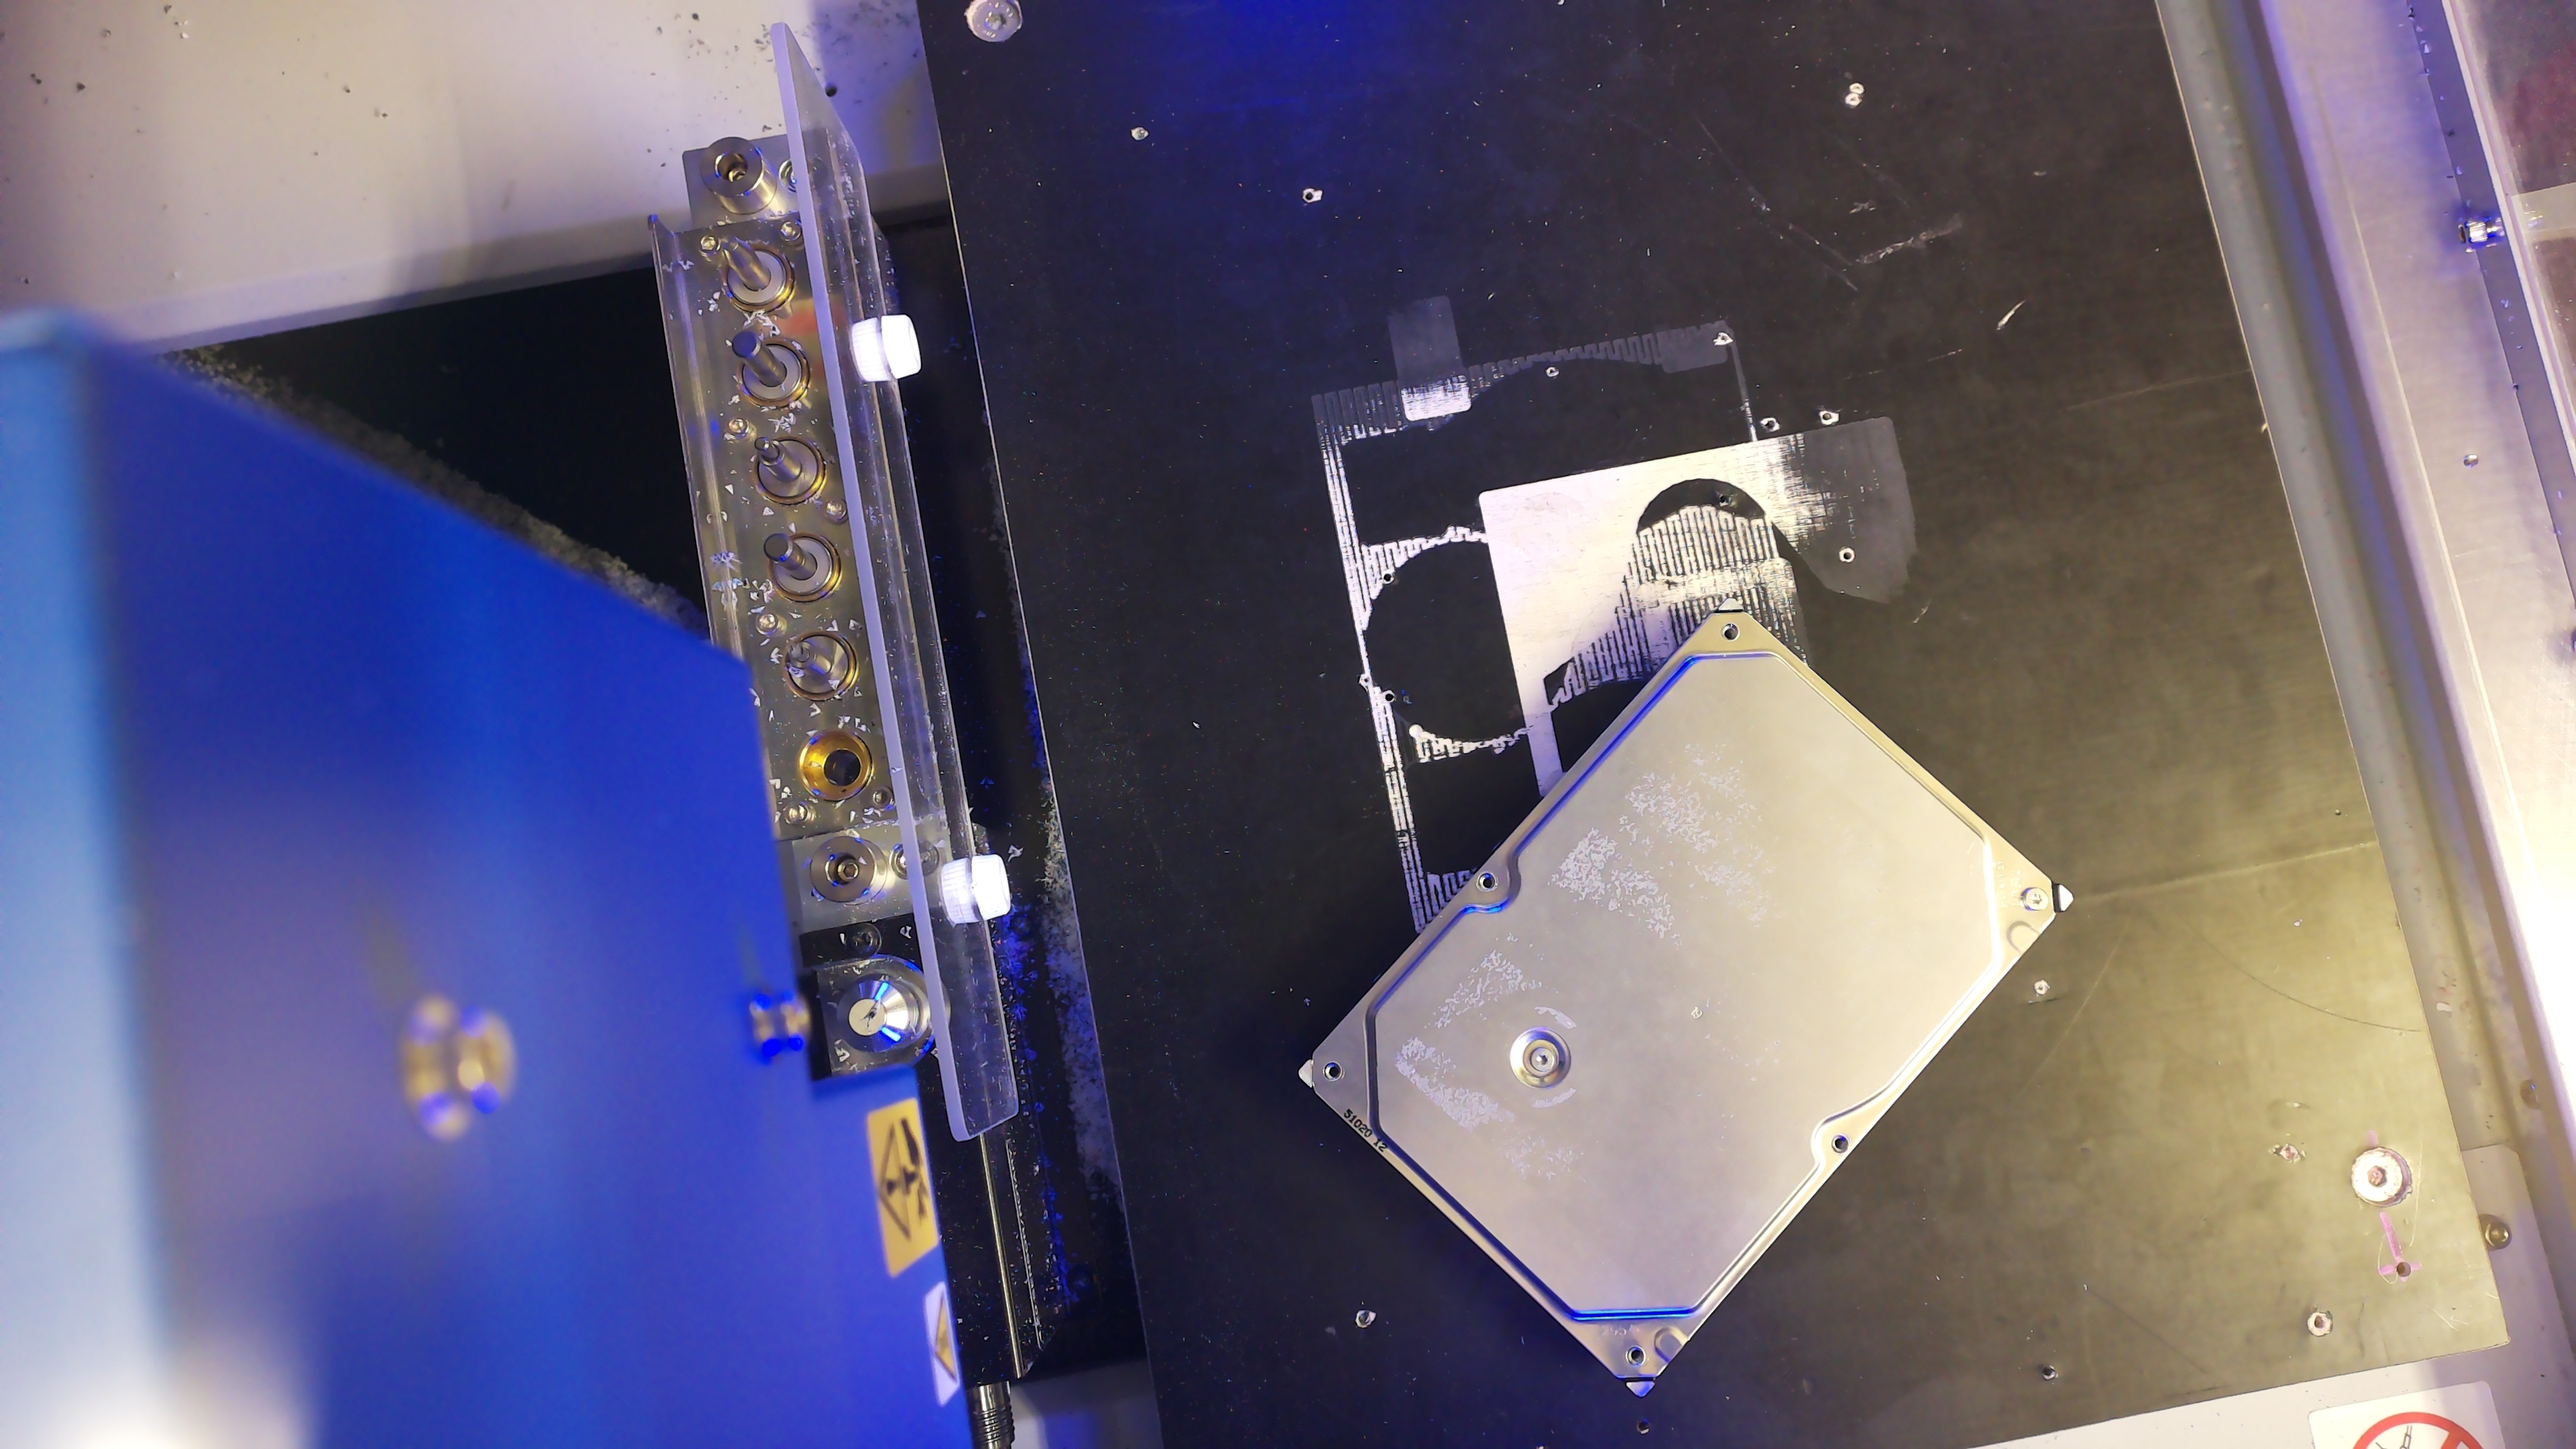Hole: (1322, 1060, 1343, 1083), (1626, 1346, 1645, 1368), (1831, 1134, 1851, 1155), (1476, 872, 1497, 892), (1721, 623, 1739, 642)
Screw: (1530, 1047, 1555, 1072), (2022, 888, 2049, 911)
